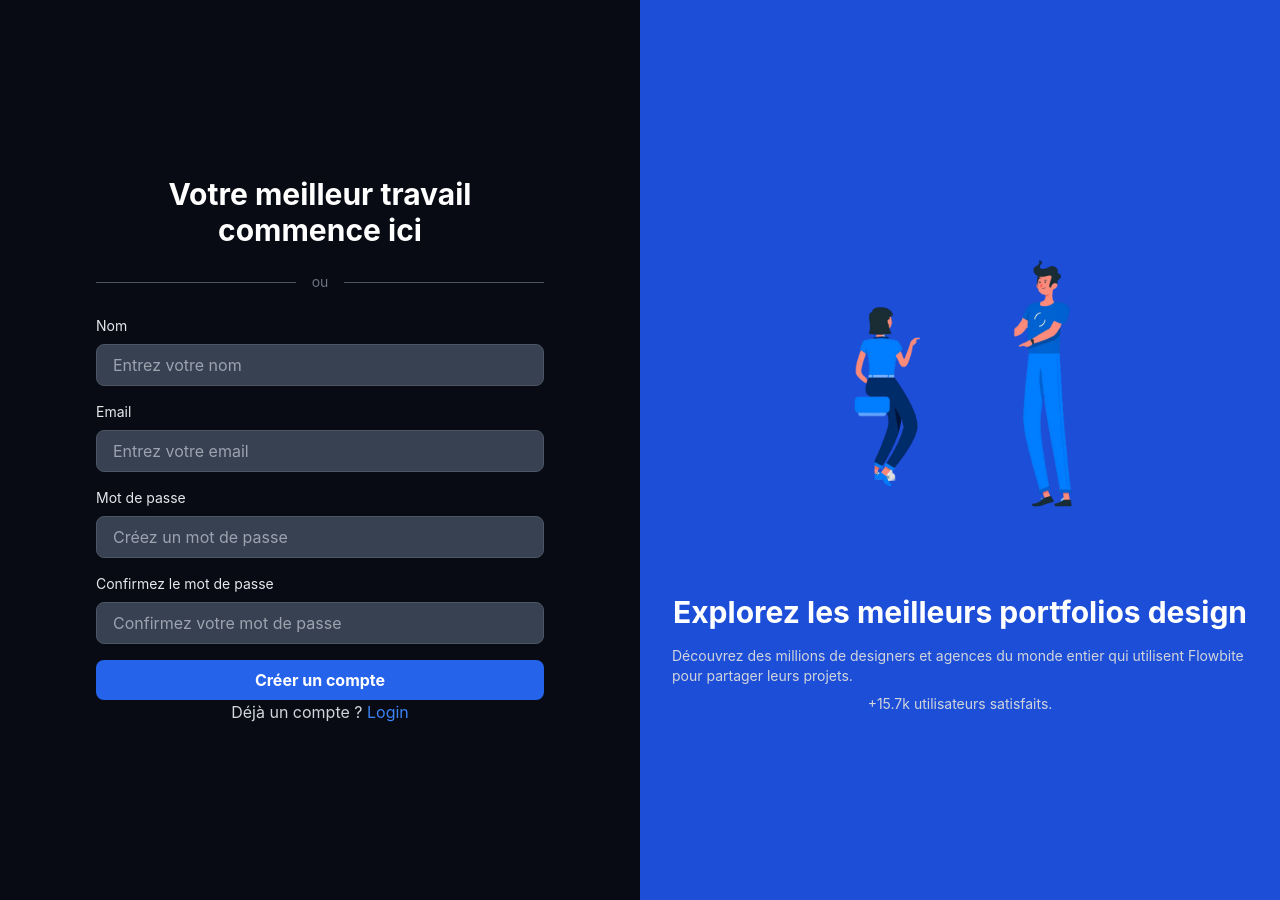
Test: Register Component › checks for existing email
The width and height of the screenshot is (1280, 900).
In the field labelled "Email": [320, 451] box [96,430,544,472], type "test@example.com"
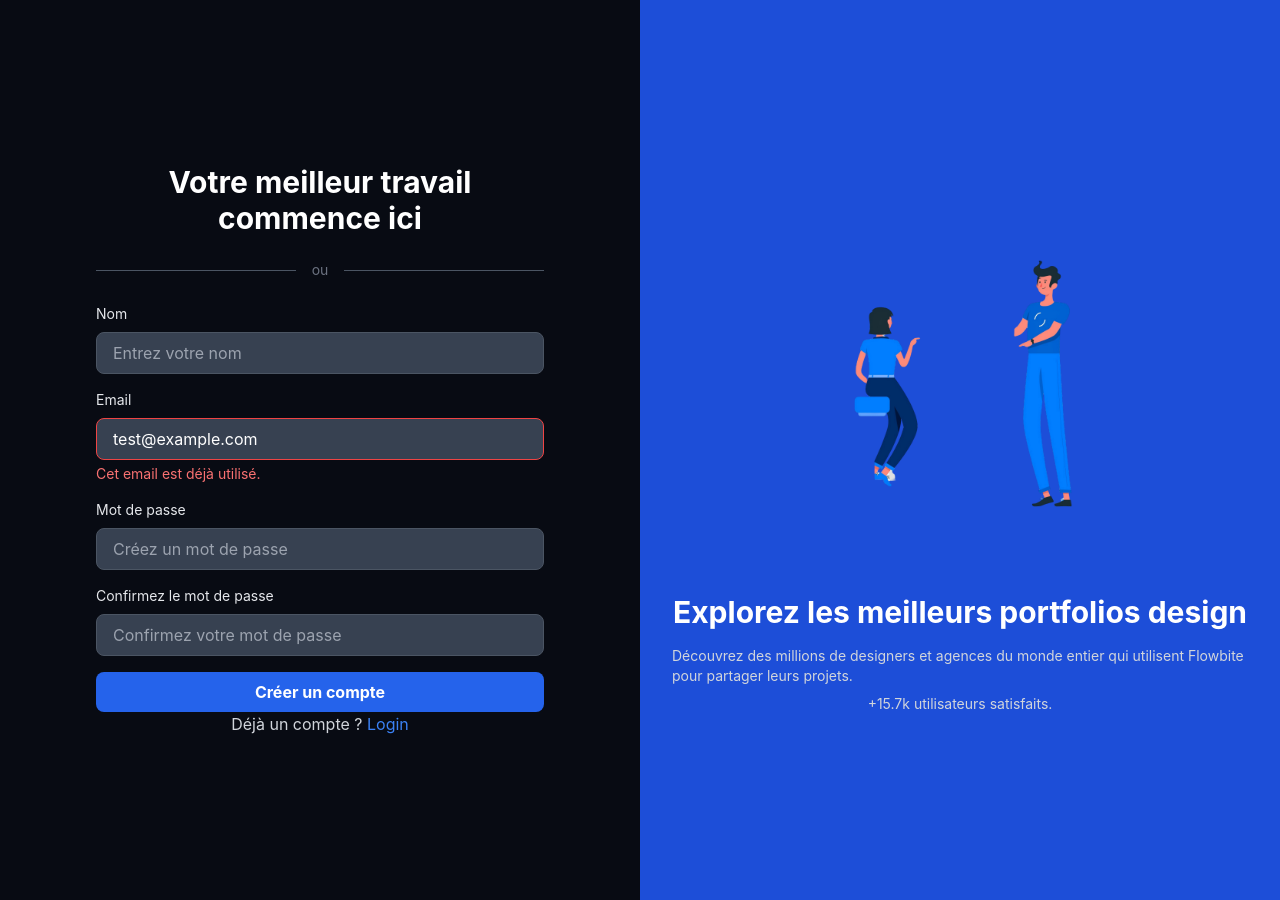
Expected: the text "Cet email est déjà utilisé." is shown, [96,465,260,482]
